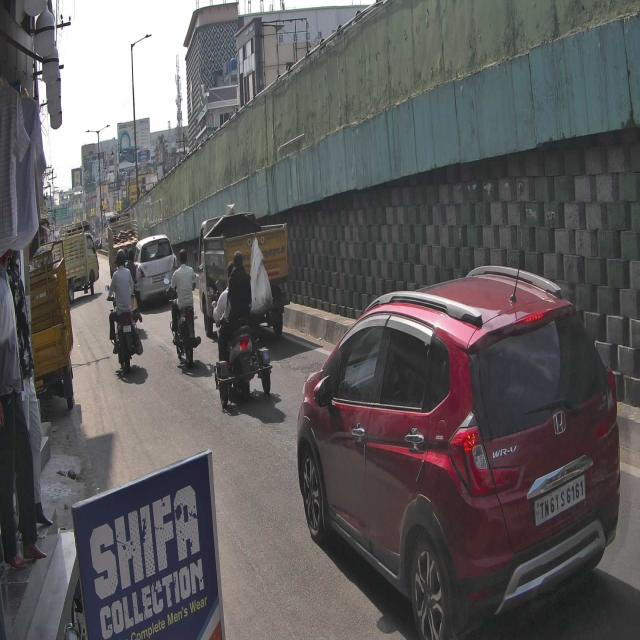double_rider: (210, 250, 273, 406)
single_rider: (163, 248, 202, 369), (104, 248, 138, 380)
